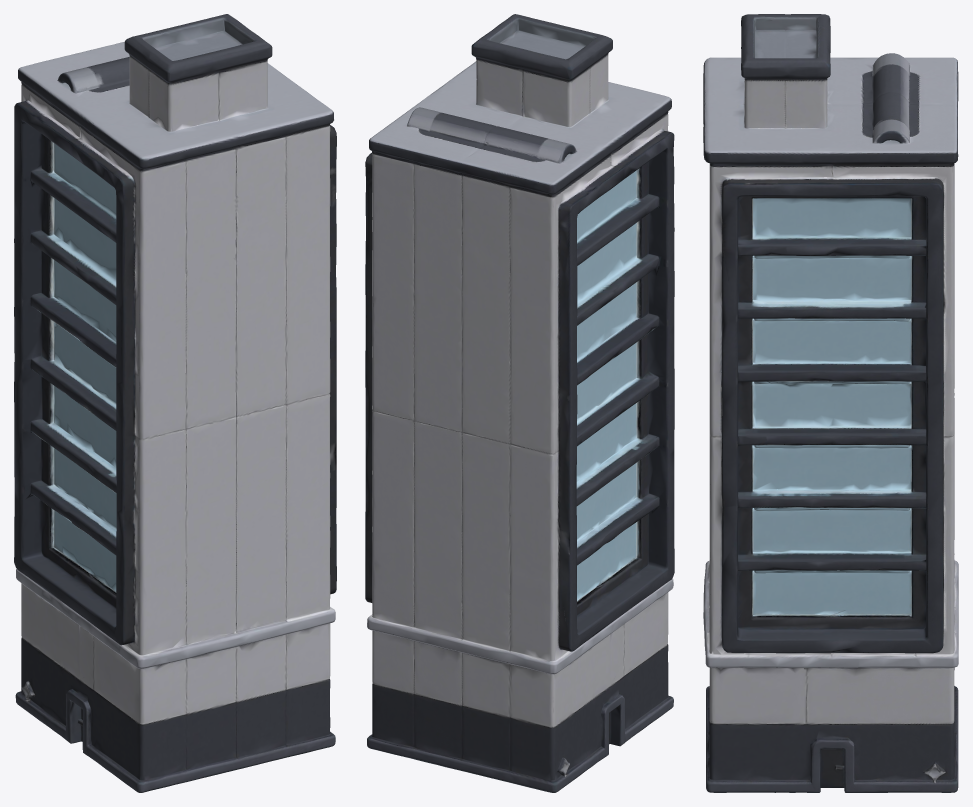
Rendered from building-skyscraper-c.glb.
3 renders of one model, left to right at view 1: azimuth 30°, elevation 25°; view 2: azimuth 150°, elevation 25°; view 3: azimuth 270°, elevation 25°, orthographic. The views are drawn at different scales.
Visible parts, largest first — view 1: tripo_node_9d6505b4-a94a-49a8-ab12-01614af8f30c; view 2: tripo_node_9d6505b4-a94a-49a8-ab12-01614af8f30c; view 3: tripo_node_9d6505b4-a94a-49a8-ab12-01614af8f30c.
Part boxes in pixels (x1=…): tripo_node_9d6505b4-a94a-49a8-ab12-01614af8f30c: x1=14, y1=14, x2=336, y2=792; tripo_node_9d6505b4-a94a-49a8-ab12-01614af8f30c: x1=365, y1=14, x2=674, y2=792; tripo_node_9d6505b4-a94a-49a8-ab12-01614af8f30c: x1=703, y1=14, x2=958, y2=792.
Bounding box in the file's own units: 0.3199 × 1 × 0.3269.
Materials: 1 (1 with a texture image).
